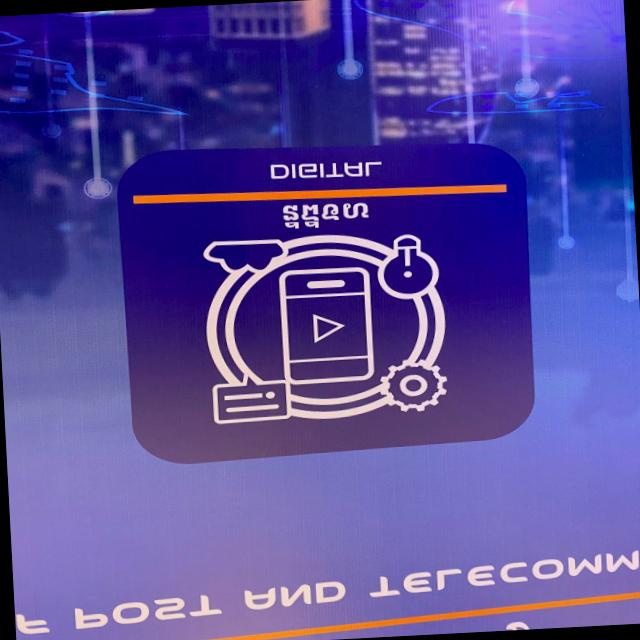Yolov11_80vkh: (273, 196, 380, 232)
